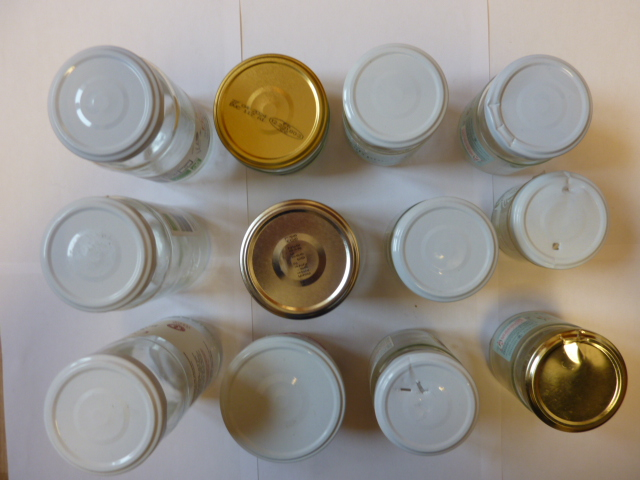damaged: (522, 327, 630, 433), (485, 54, 592, 160), (373, 350, 479, 456), (510, 170, 607, 270)
intact: (240, 198, 359, 319), (342, 42, 448, 148)
